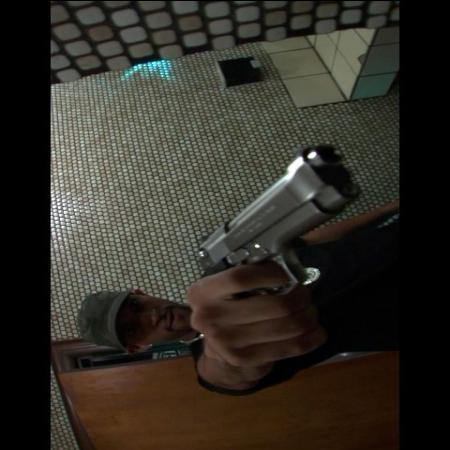Pistol: (191, 143, 351, 355)
